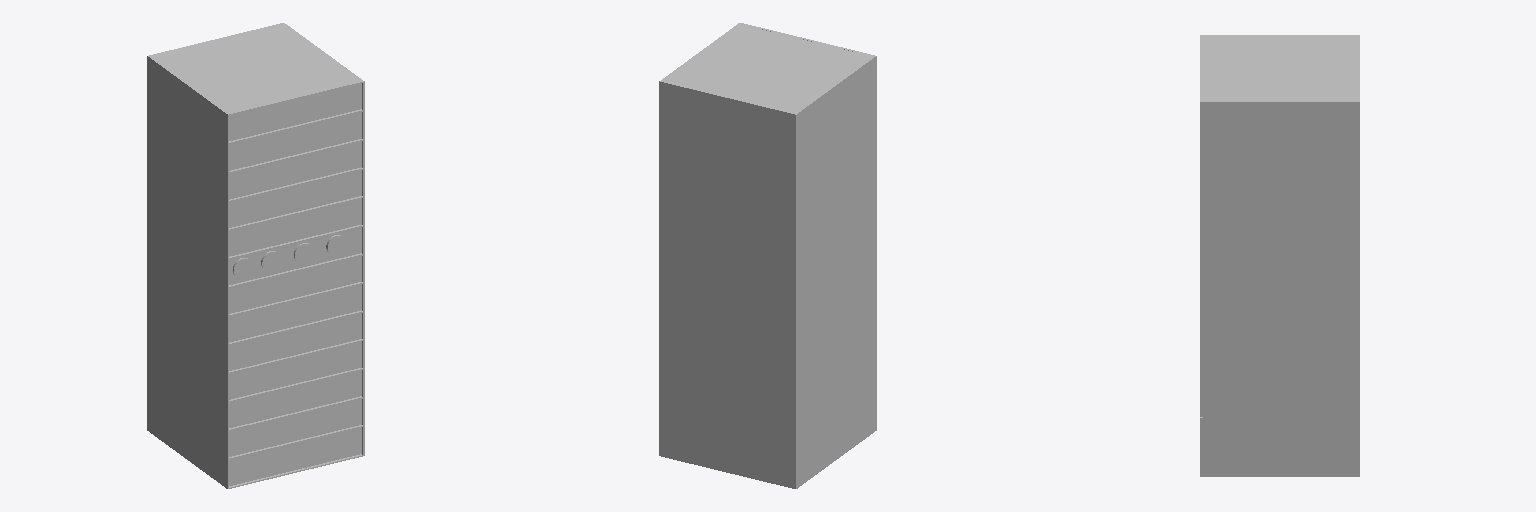
Rendered from TestServer.obj.
The picture shows the model from 3 angles: view 1: azimuth 30°, elevation 25°; view 2: azimuth 150°, elevation 25°; view 3: azimuth 270°, elevation 25°; orthographic projection.
Parts seen in each view (by area): view 1: Cube.003_Cube.008, Cube.001_Cube.003, Cube.002_Cube.010; view 2: Cube.003_Cube.008, Cube.001_Cube.003; view 3: Cube.003_Cube.008, Cube.002_Cube.010.
Part boxes in pixels (x1,y1,x2,y2): Cube.003_Cube.008: (147,23,361,487); Cube.001_Cube.003: (226,114,228,488); Cube.002_Cube.010: (362,83,364,454); Cube.003_Cube.008: (659,24,874,488); Cube.001_Cube.003: (875,56,876,430); Cube.003_Cube.008: (1203,35,1359,476); Cube.002_Cube.010: (1200,103,1202,474).
Bounding box in the file's own units: 2 × 5.24 × 2.04.